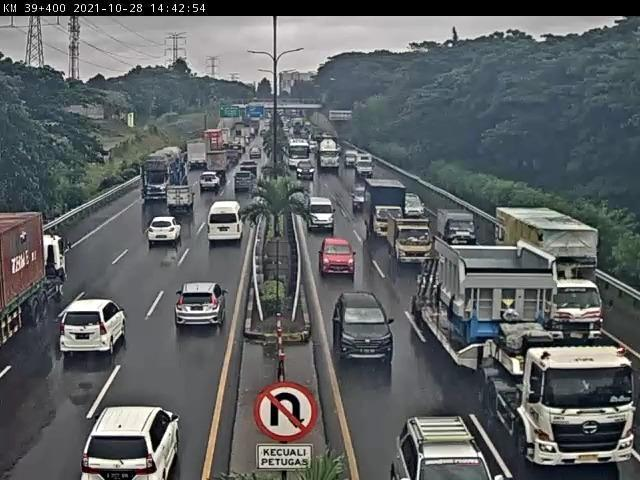car: (82, 407, 182, 480), (334, 292, 397, 371), (59, 299, 129, 355), (175, 285, 229, 330), (208, 200, 247, 247), (319, 237, 359, 281), (306, 197, 338, 234), (148, 217, 182, 246), (167, 183, 196, 215)
truck: (412, 237, 640, 480), (496, 208, 607, 342), (385, 209, 438, 267), (365, 176, 409, 244), (144, 145, 192, 197)
